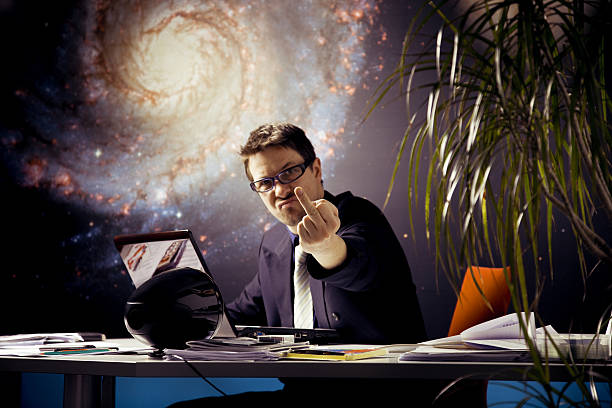insulting_gesture: (291, 184, 342, 267)
